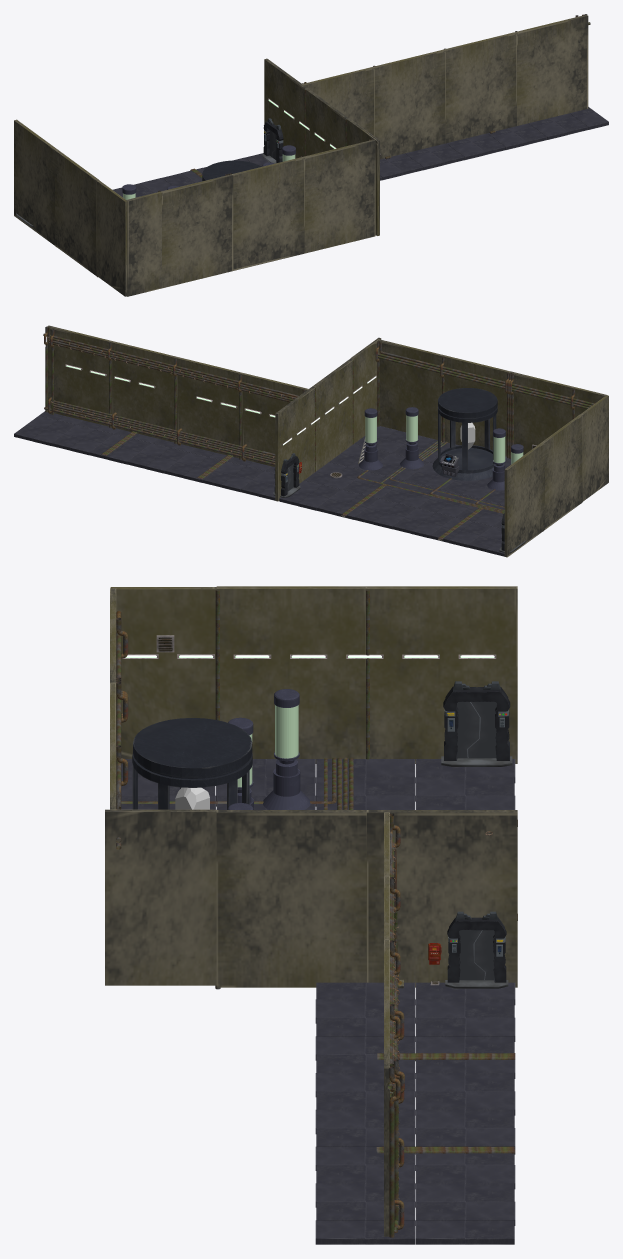
The model's file is inside map.fbx.
The picture shows the model from 3 angles, top to bottom: view 1: azimuth 30°, elevation 25°; view 2: azimuth 150°, elevation 25°; view 3: azimuth 270°, elevation 25°; orthographic projection. The views are drawn at different scales.
Visible parts, largest first — view 1: Cube.097, Cube.099, Cube.098, Cube.115, Cube.113, Cube.104, Cube.106, Cube.100, Cube.110, Cube.094, Cube.093, Cube.109 (+6 smaller); view 2: Cube.108, Cube.106, Cube.097, Cube.104, Cube.113, Cube.115, Cube.110, Cube.100, Cube.096, tank, Cube.099, Cube.109 (+21 smaller); view 3: Cube.106, Cube.096, Cube.100, Cube.110, Cube.109, Cube.095, Cube.093, Cube.108, tank, Plane.009, Circle.121, Plane.012 (+3 smaller).
Part boxes in pixels (x1,y1,x2,y2): Cube.097: (303,139,375,253); Cube.099: (161,174,233,288); Cube.098: (232,157,304,270); Cube.115: (516,14,588,125); Cube.113: (444,32,516,143); Cube.104: (373,49,445,159); Cube.106: (380,107,608,180); Cube.100: (55,150,98,275); Cube.110: (14,119,57,245); Cube.094: (126,191,161,296); Cube.093: (96,180,127,296); Cube.109: (264,58,307,158); Cube.108: (279,426,511,556); Cube.106: (14,411,275,500); Cube.097: (378,339,444,440); Cube.104: (177,357,243,458); Cube.113: (112,341,178,442); Cube.115: (47,325,113,426); Cube.110: (504,442,544,557); Cube.100: (542,414,582,529); Cube.096: (313,358,353,471); tank: (432,388,497,480); Cube.099: (509,371,575,455); Cube.109: (275,386,315,501); Cube.106: (315,982,515,1244); Cube.096: (216,810,366,987); Cube.100: (216,586,366,763); Cube.110: (367,586,517,763); Cube.109: (367,810,517,987); Cube.095: (105,809,216,985); Cube.093: (110,587,216,758); Cube.108: (121,759,515,809); tank: (132,718,252,787); Plane.009: (443,681,510,760); Circle.121: (228,689,310,809); Plane.012: (447,911,506,982).
Bounding box in the file's own units: 14545 × 2493 × 5238.
